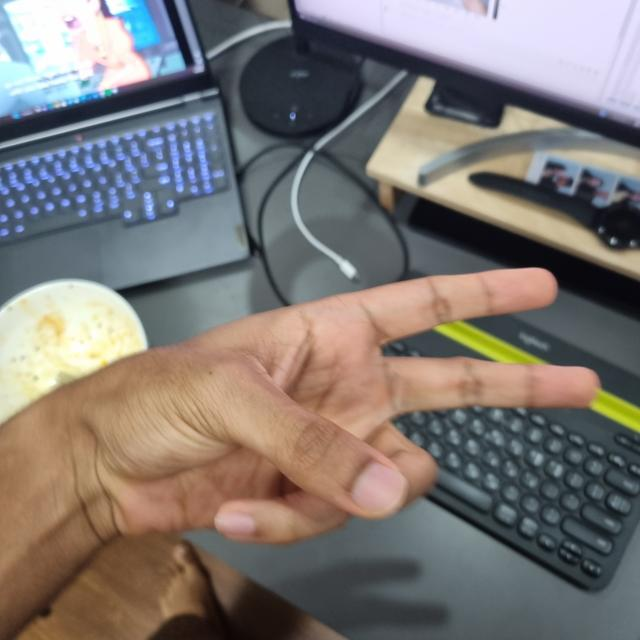Scissors: (66, 270, 596, 547)
